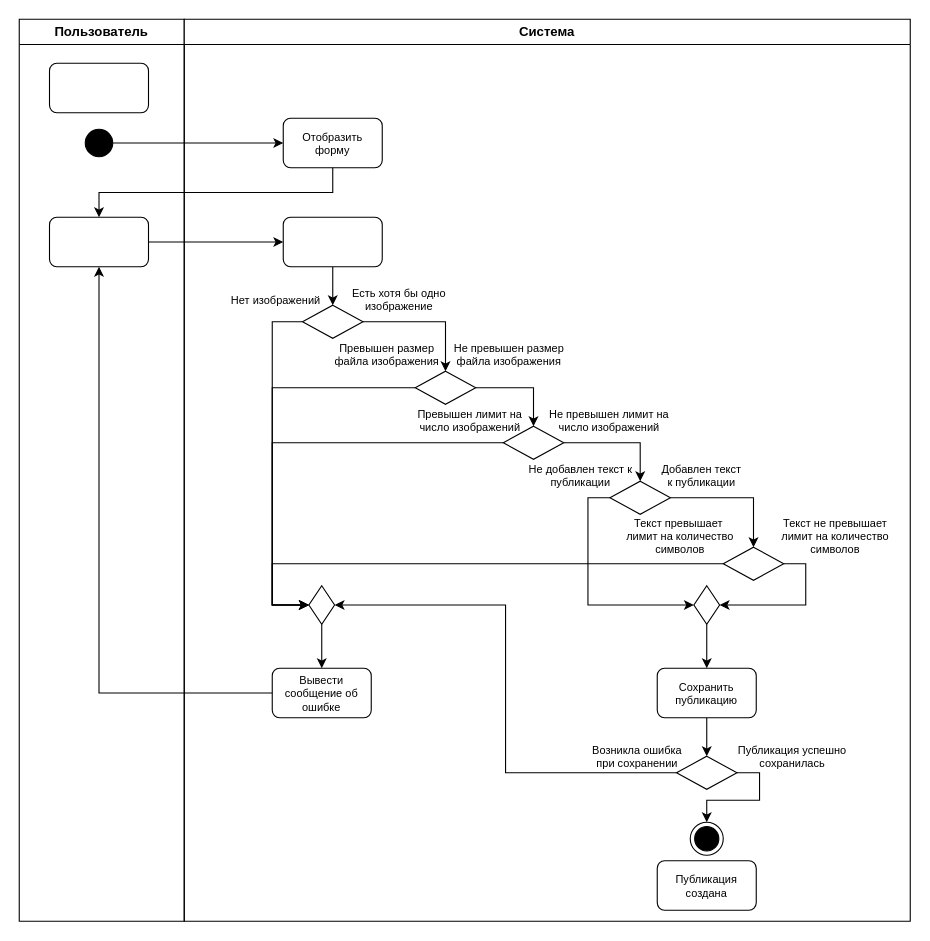
The diagram is 930 pixels wide and 941 high, and some of its shapes have lost their labels. Here are the shapes that lost their labels. From the top down, the box of each, then its label:
(48, 62, 148, 113): Нажата кнопка "Создать публикацию"
(48, 216, 148, 267): Заполнить поля в форме
(282, 216, 382, 267): Проверить корректность данных
